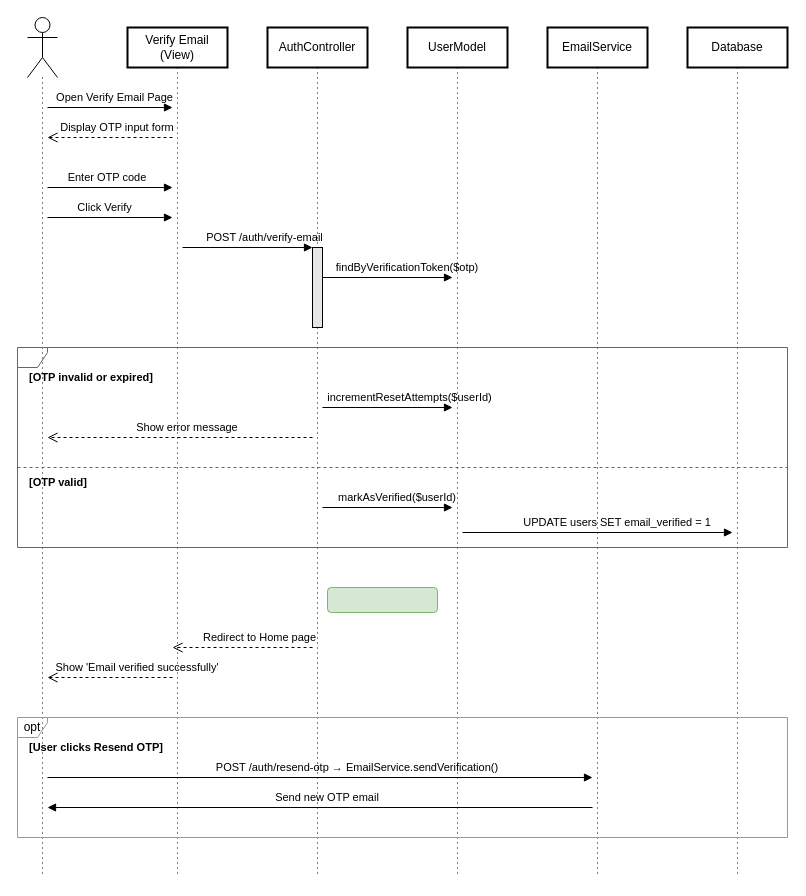
This 806x896 diagram has some shape labels left out. The box of each missing label's shape, as (x1, y1, x2, y2) in pixels:
alt: (16, 346, 788, 548)
Create user session: (326, 586, 438, 612)
User: (26, 16, 58, 78)
